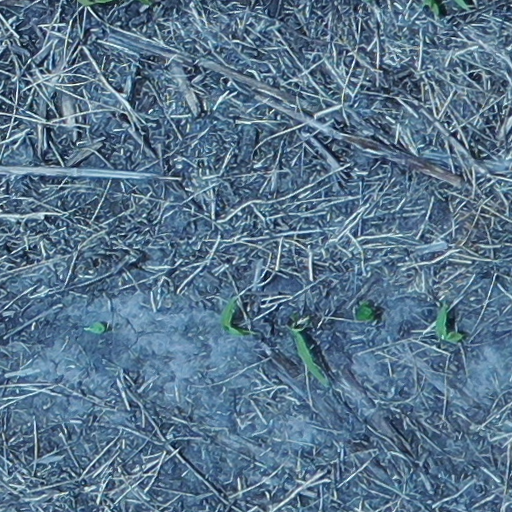planta: (293, 328, 324, 381), (221, 299, 252, 335), (435, 304, 464, 342)
